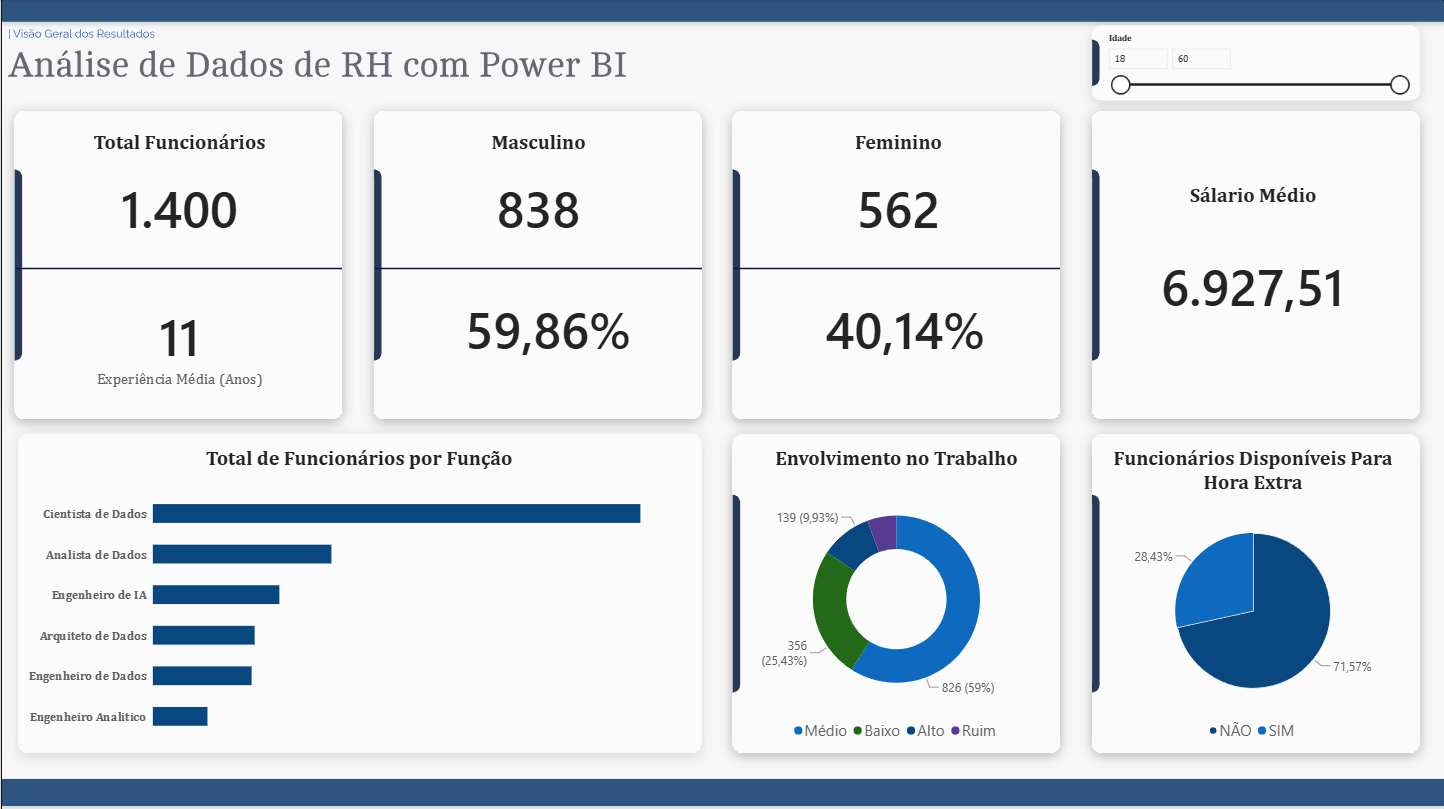

The dashboard page shown, as its layout file describes it:
{"tool":"powerbi","page":{"name":"DashboardRH","canvas":[1920,1080],"ordinal":0},"visuals":[{"type":"cardVisual","title":"Sálario Médio","fields":{"Data":["Medidas.SalarioMedio"]},"box":[1444.9,245.2,441.7,225.7],"z":0},{"type":"cardVisual","title":"Total Funcionários","fields":{"Data":["Medidas.TotalFunc"]},"box":[32,174.2,411,160.2],"z":1000},{"type":"cardVisual","fields":{"Data":["Medidas.MediaExperiencia"]},"box":[32,380.4,411,160.2],"z":2000},{"type":"cardVisual","title":"Masculino","fields":{"Data":["Medidas.TotalMasculino"]},"box":[510,174.2,411,160.2],"z":3000},{"type":"cardVisual","title":"Feminino","fields":{"Data":["Medidas.TotalFemino"]},"box":[987.9,174.2,411,160.2],"z":4000},{"type":"barChart","title":"Total de Funcionários por Função","fields":{"Category":["DatasetRH.Funcao"],"Y":["Sum(DatasetRH.Id_Funcionario)"]},"box":[19.5,581,912.6,425],"z":5000},{"type":"slicer","fields":{"Values":["DatasetRH.Idade"]},"box":[1465.8,44.6,411,87.8],"z":6000},{"type":"donutChart","title":"Envolvimento no Trabalho","fields":{"Category":["DatasetRH.Indice_Envolvimento_Trabalho"],"Y":["Count(DatasetRH.Id_Funcionario)"]},"box":[973.9,581,434.7,425],"z":7000},{"type":"pieChart","title":"Funcionários Disponíveis Para Hora Extra","fields":{"Category":["DatasetRH.Disponivel_Hora_Extra"],"Y":["Count(DatasetRH.Id_Funcionario)"]},"box":[1444.9,581,441.7,425],"z":8000},{"type":"cardVisual","fields":{"Data":["Medidas.Teste %"]},"box":[522.5,358.1,411,160.2],"z":9000},{"type":"cardVisual","fields":{"Data":["Medidas.% Feminino"]},"box":[997.6,360.9,411,154.7],"z":10000},{"type":"shape","box":[19.5,282.8,436.1,150.5],"z":10001},{"type":"shape","box":[497.4,282.8,436.1,150.5],"z":10002},{"type":"shape","box":[975.3,282.8,436.1,150.5],"z":10003}]}

Visuals, with their boxes in screenshot pixels (x1, y1, x2, y2), scaled from the page's 1920x1080 canvas onto the 1444x809 screenshot:
"Sálario Médio" cardVisual: Rect(1087, 184, 1419, 353)
"Total Funcionários" cardVisual: Rect(24, 130, 333, 250)
cardVisual - Medidas.MediaExperiencia: Rect(24, 285, 333, 405)
"Masculino" cardVisual: Rect(384, 130, 693, 250)
"Feminino" cardVisual: Rect(743, 130, 1052, 250)
"Total de Funcionários por Função" barChart: Rect(15, 435, 701, 754)
slicer - DatasetRH.Idade: Rect(1102, 33, 1412, 99)
"Envolvimento no Trabalho" donutChart: Rect(732, 435, 1059, 754)
"Funcionários Disponíveis Para Hora Extra" pieChart: Rect(1087, 435, 1419, 754)
cardVisual - Medidas.Teste %: Rect(393, 268, 702, 388)
cardVisual - Medidas.% Feminino: Rect(750, 270, 1059, 386)
shape: Rect(15, 212, 343, 325)
shape: Rect(374, 212, 702, 325)
shape: Rect(734, 212, 1061, 325)
